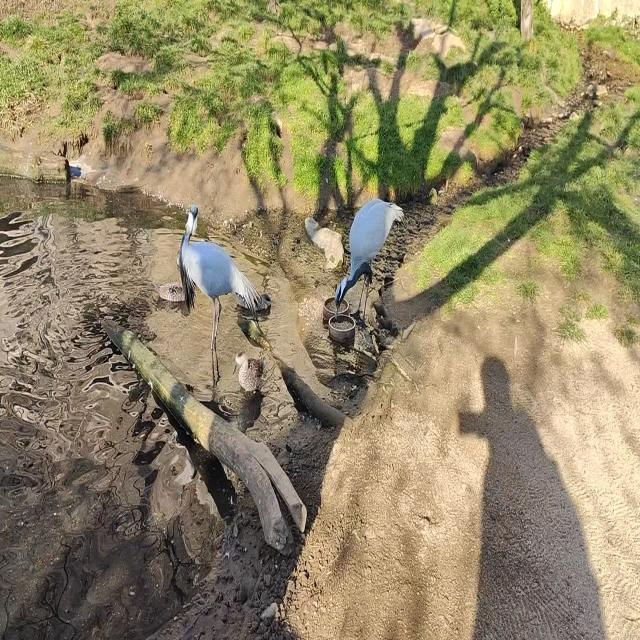bird: (180, 205, 270, 350), (335, 198, 407, 328), (232, 350, 266, 392), (237, 293, 271, 311), (154, 282, 185, 301)
